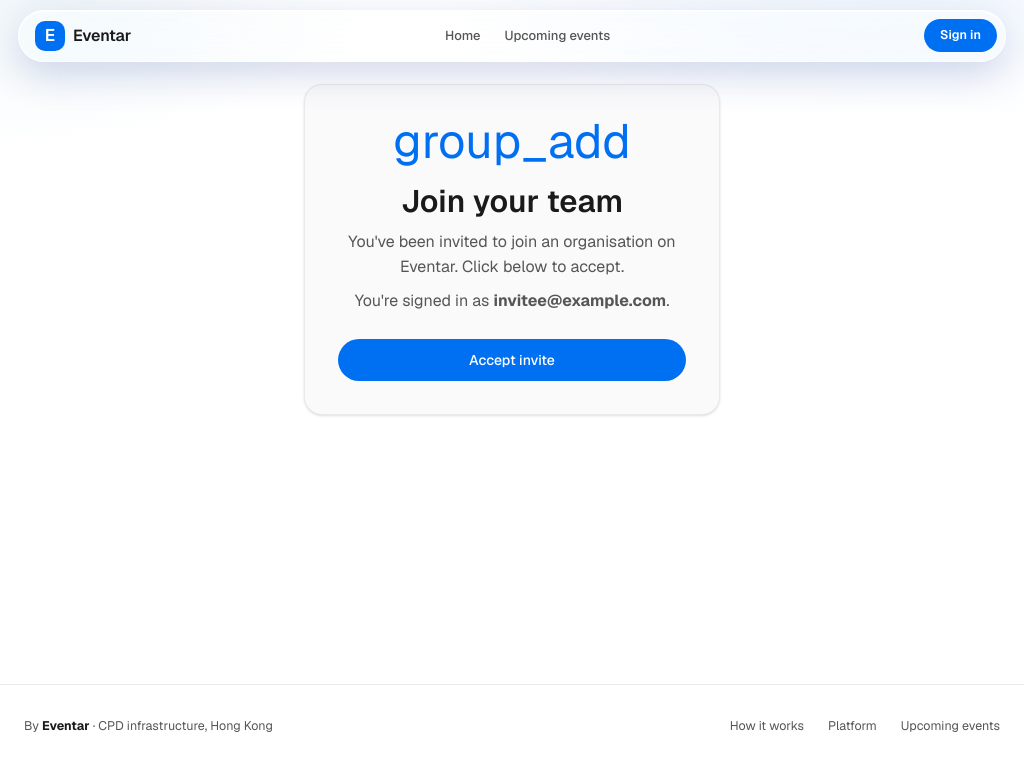
Test case: invite page — the email already has practitioner data (D3) › a failed sign-out stays on the prompt with an inline error and does not navigate (rule 12)
The image size is (1024, 764).
Click the button "Accept invite" at (512, 360), box x1=337 y1=338 x2=687 y2=382
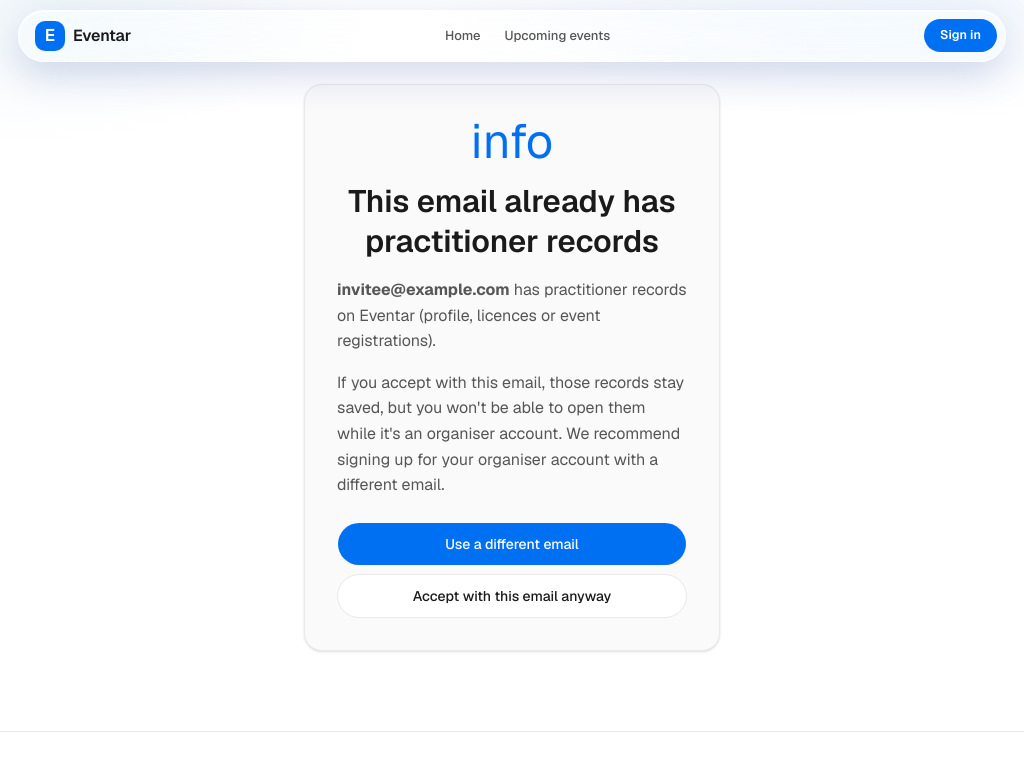
Click the button "Use a different email" at (512, 544), box x1=337 y1=522 x2=687 y2=566
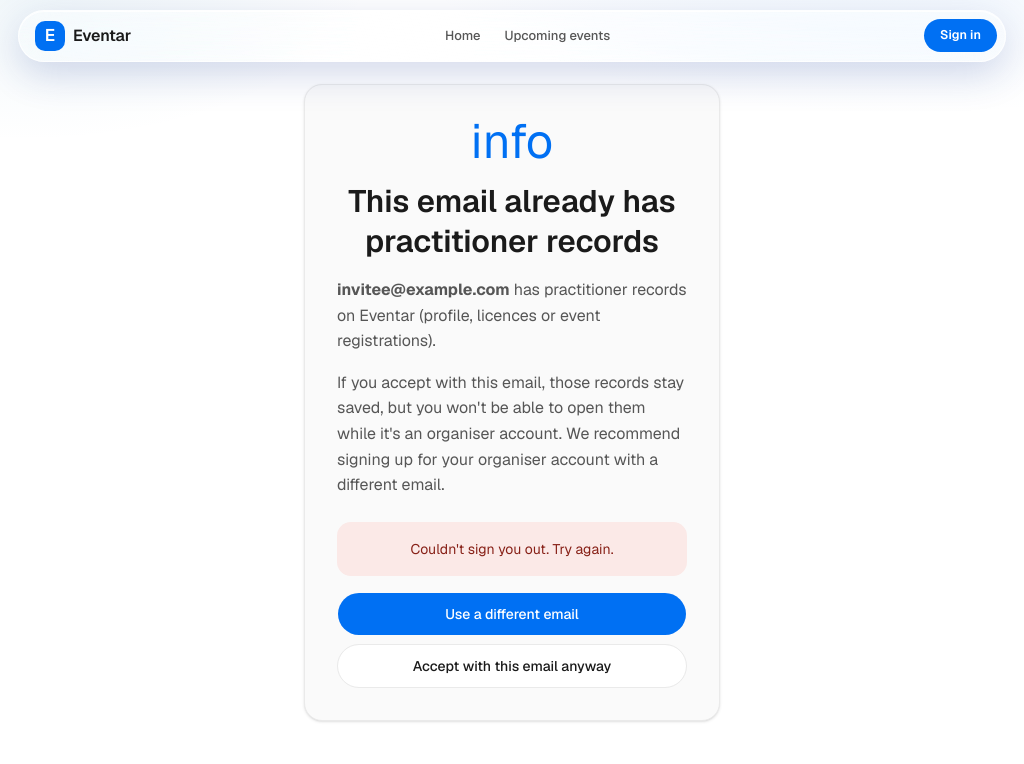
expect the heading "This email already has practitioner records" is shown: met, box x1=337 y1=180 x2=687 y2=261
expect the button "Use a different email" is enabled: met, box x1=337 y1=592 x2=687 y2=636
expect the message reads "Couldn't sign you out. Try again.": met, box x1=410 y1=540 x2=614 y2=558
